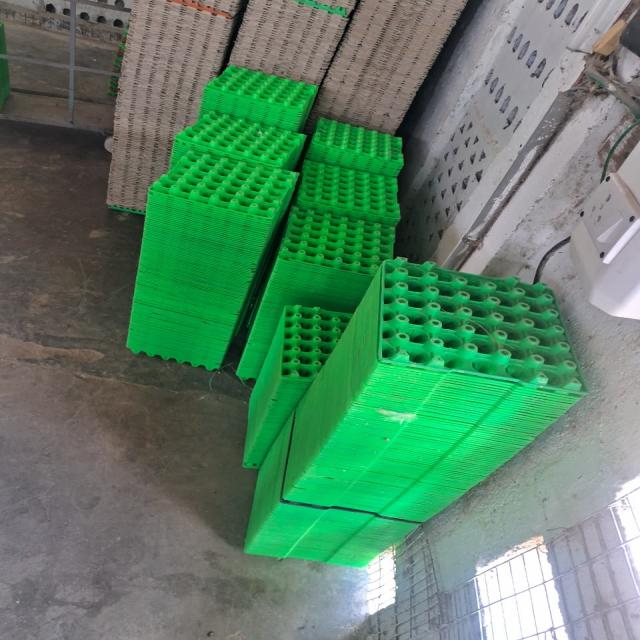egg_tray: (380, 259, 585, 391), (150, 152, 297, 218), (171, 112, 305, 168), (201, 66, 317, 130), (282, 207, 394, 273), (297, 160, 399, 223), (307, 118, 403, 176), (281, 306, 351, 376)
